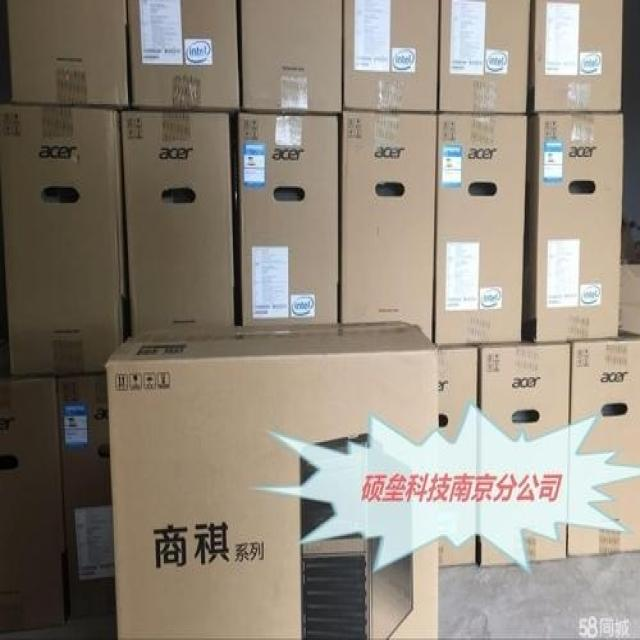box: (109, 320, 438, 638), (0, 102, 126, 377), (122, 110, 238, 333), (522, 112, 624, 342), (341, 113, 437, 345), (478, 331, 571, 567), (435, 112, 527, 347), (239, 115, 338, 323), (0, 374, 67, 638), (568, 327, 639, 556), (59, 376, 114, 638), (7, 3, 129, 109), (126, 1, 241, 108), (239, 2, 343, 113), (344, 1, 440, 111), (529, 0, 622, 113), (438, 1, 532, 112), (436, 348, 477, 568), (621, 218, 639, 333)
